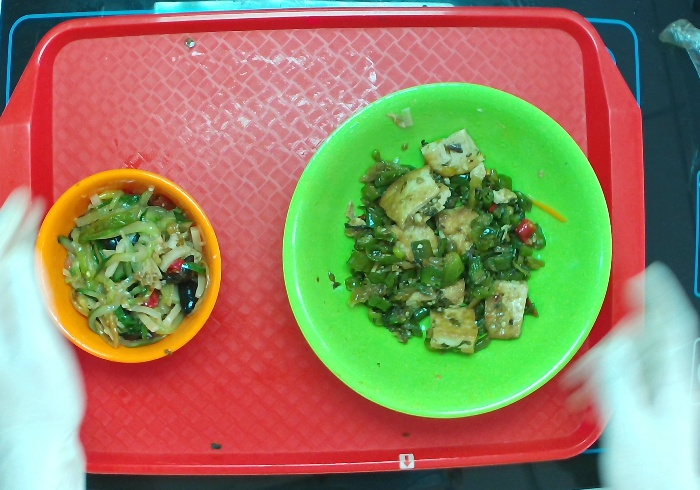YKMZ-Ju_Se_Yuan_Wan: (28, 167, 226, 365)
YKMZ-Lv_Se_Tang_Wan: (275, 79, 615, 423)
